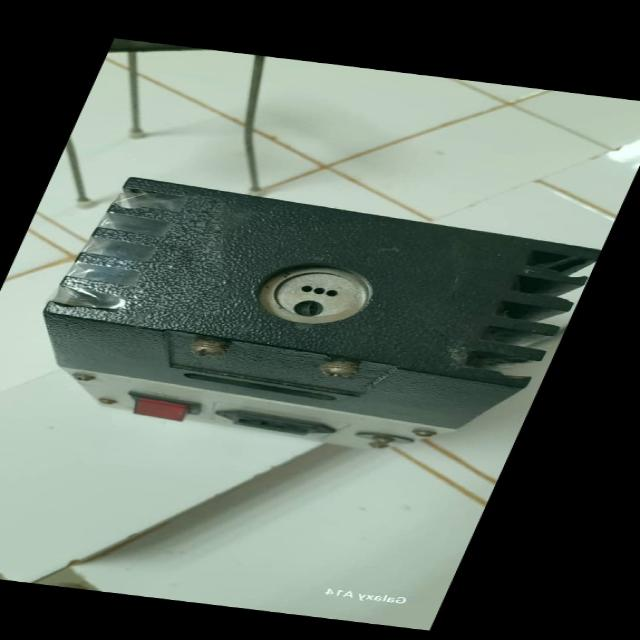Melting Point Apparatus: (0, 185, 595, 468)
